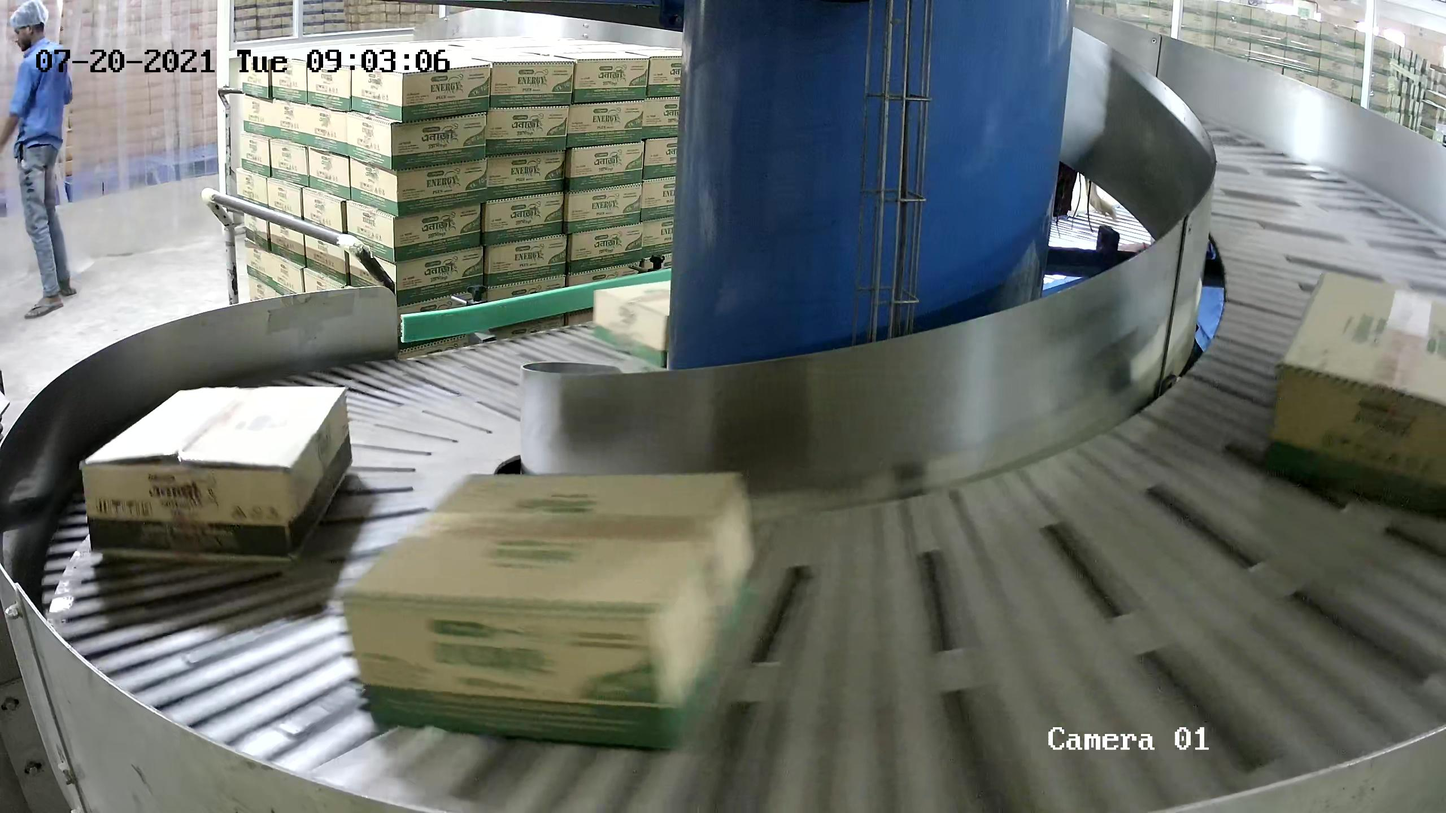Box: (336, 469, 762, 751), (78, 384, 356, 565), (1263, 267, 1446, 520), (591, 279, 672, 368)
